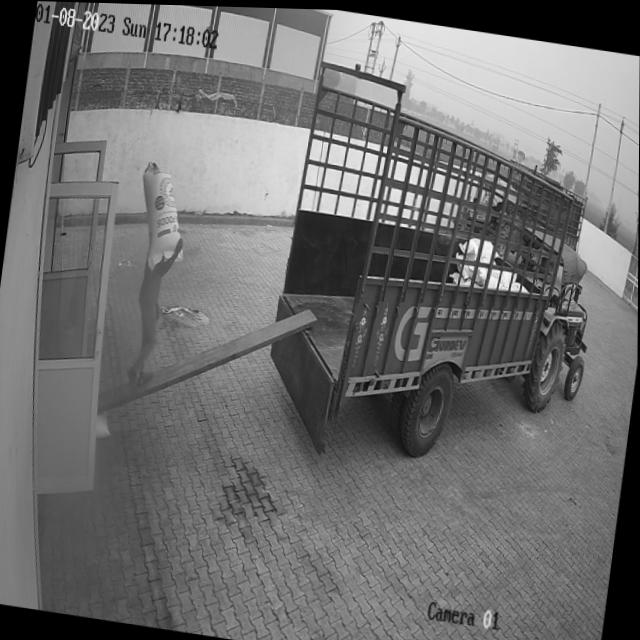sack: (131, 158, 194, 273)
